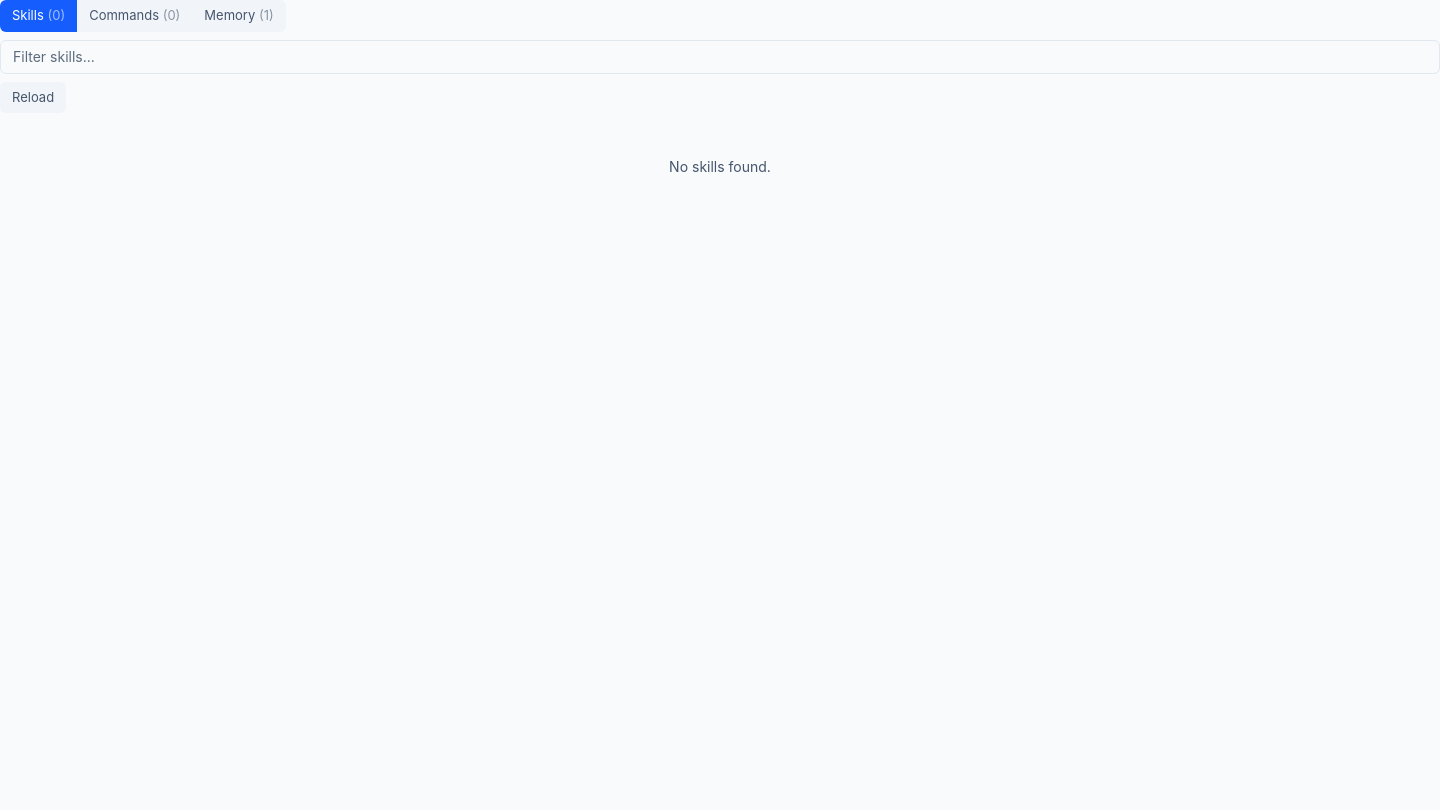
configExplorer editor › surfaces a reload prompt when the save conflicts (409)
Click the button "Memory (1)" at (239, 16), box [192,0,286,32]
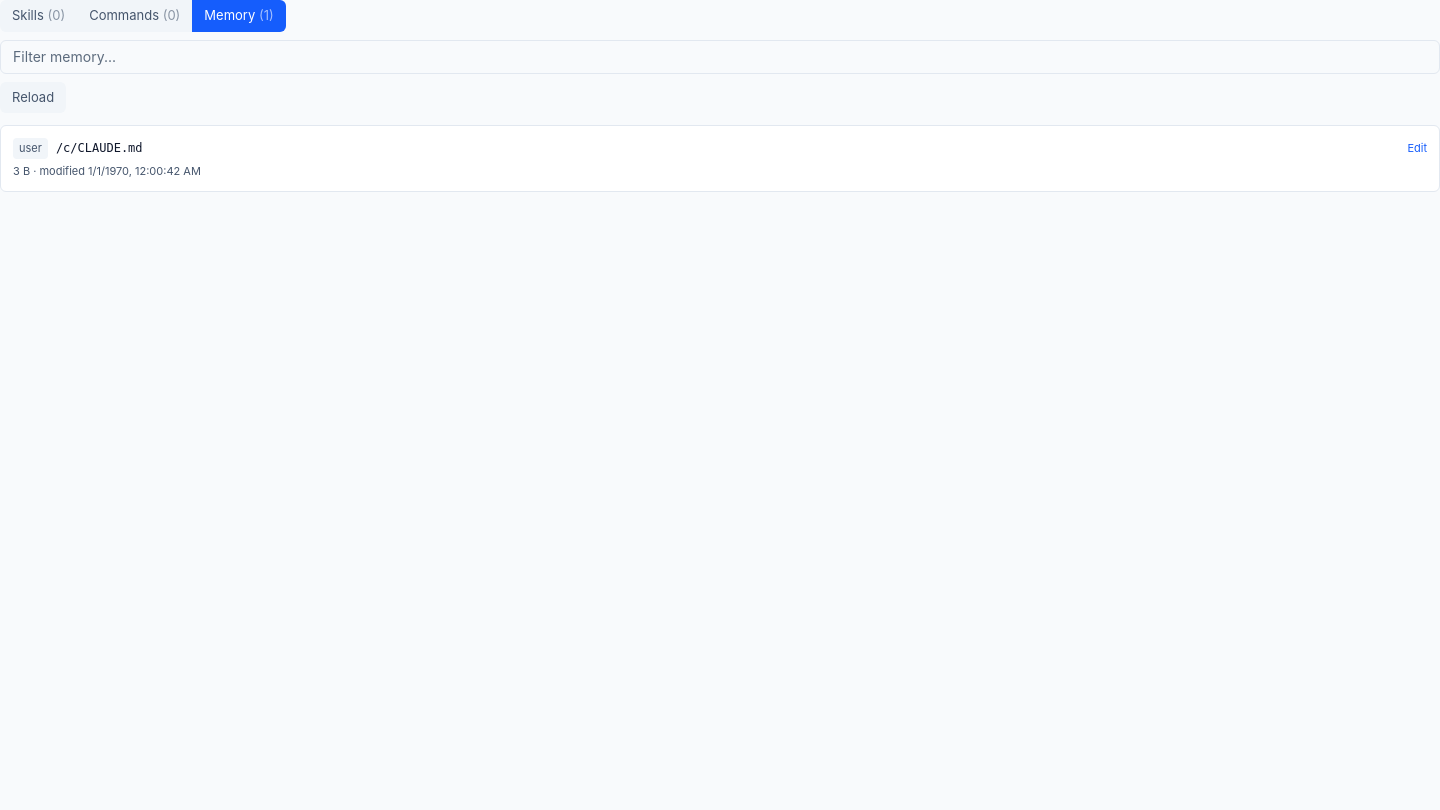
Click the button "Edit" at (1417, 148), box [1407,140,1427,156]
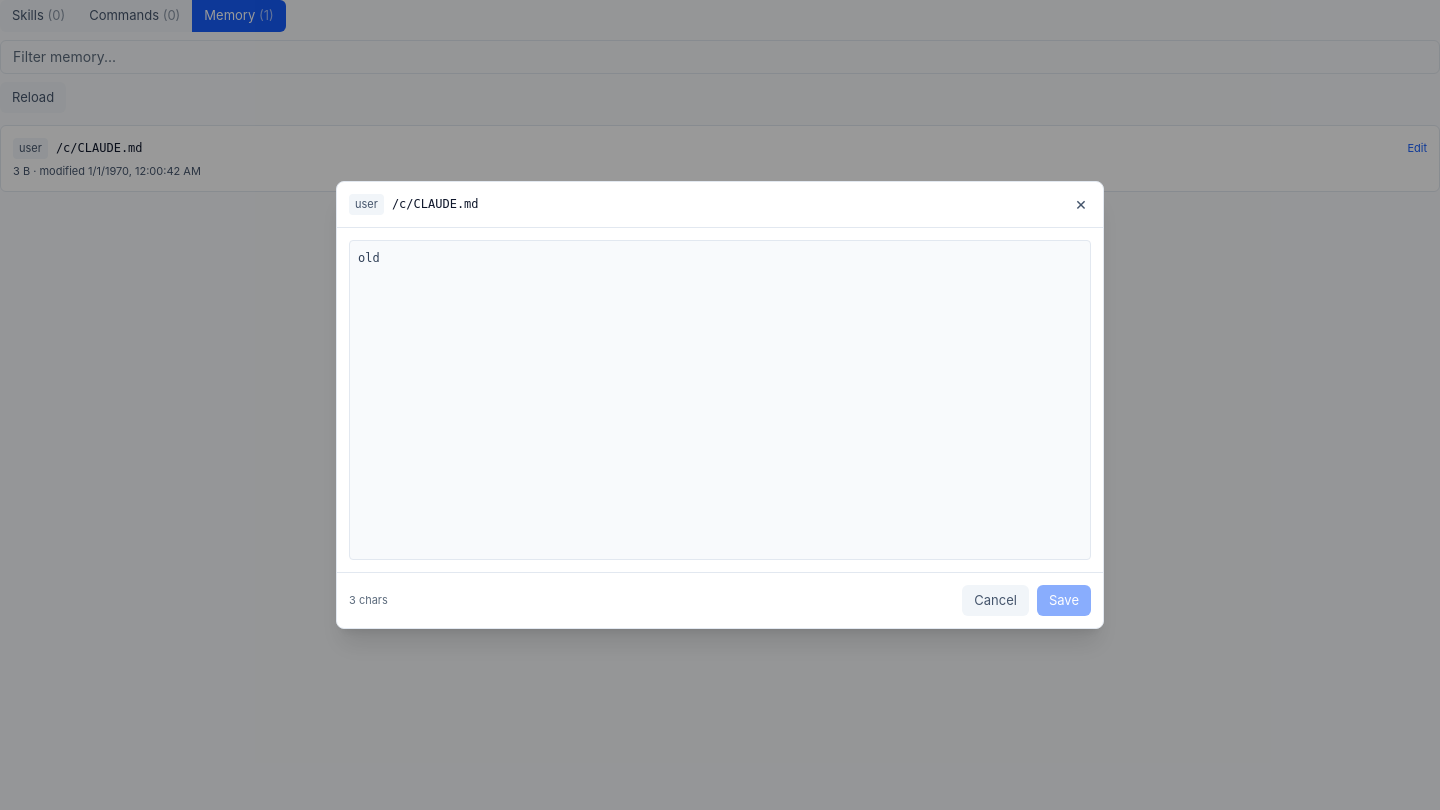
Replace the text in the text box with "changed" at (720, 400), box [349,240,1091,560]
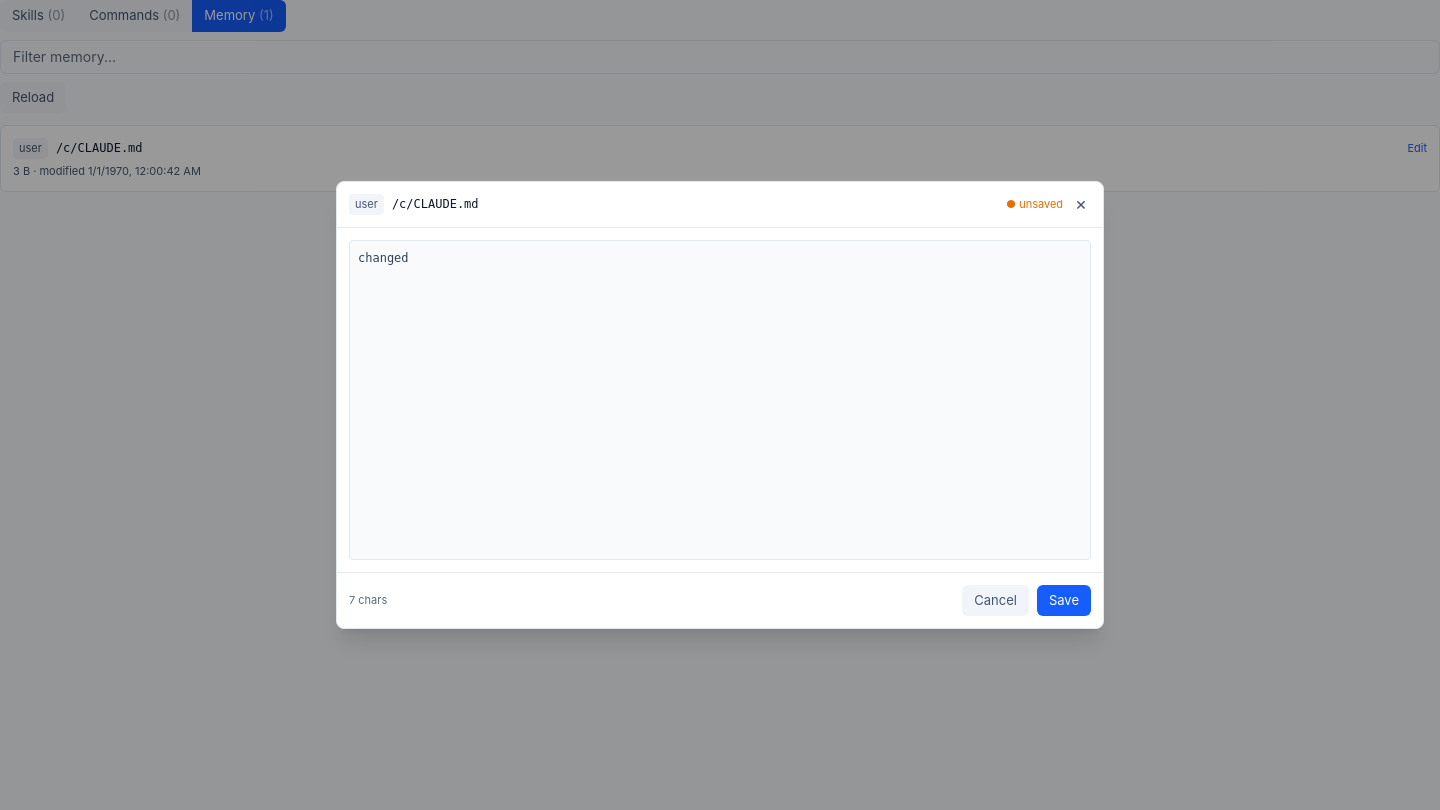
Click the button "Save" at (1064, 600), box [1037,584,1091,616]
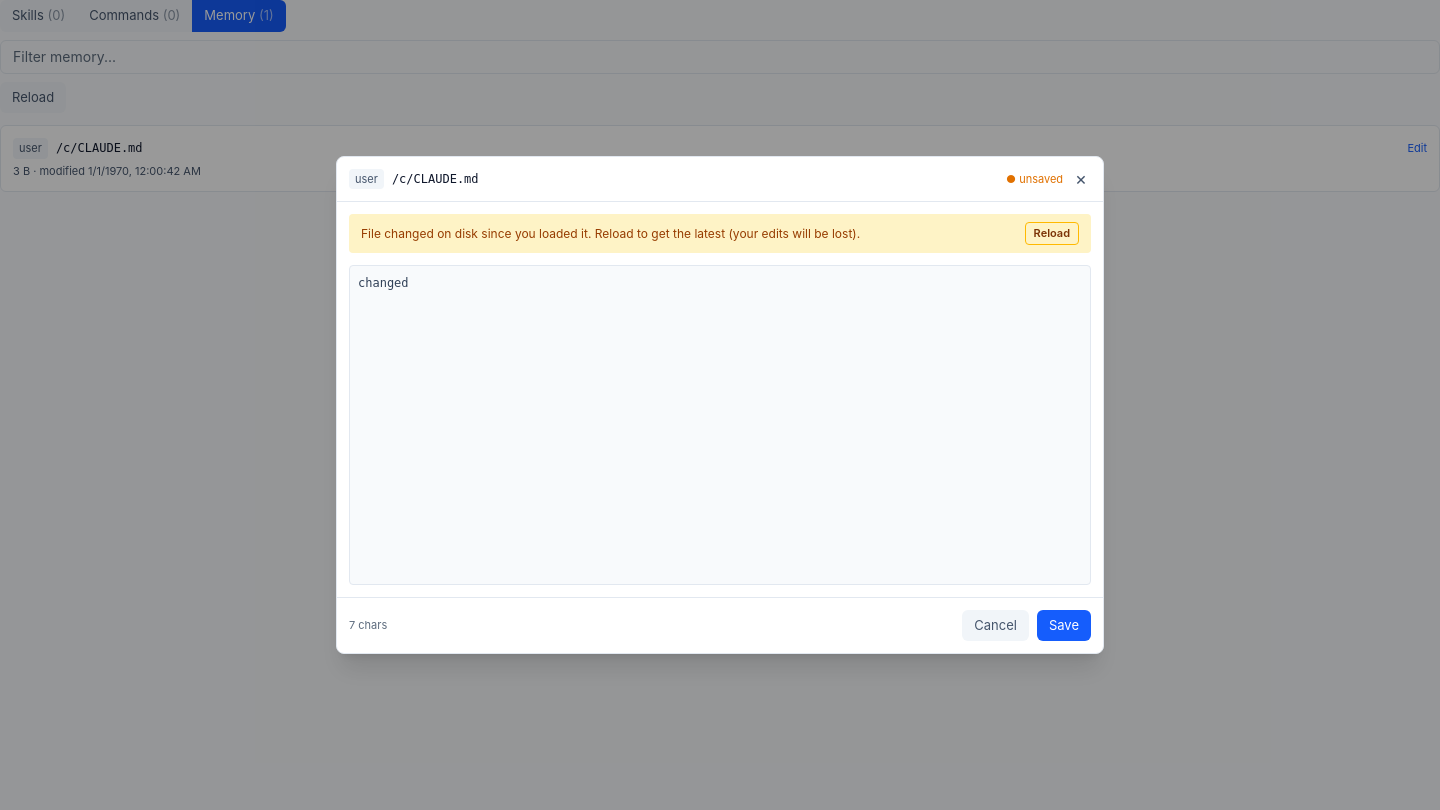
expect the text "changed on disk" is shown: met, box [361,226,860,240]
